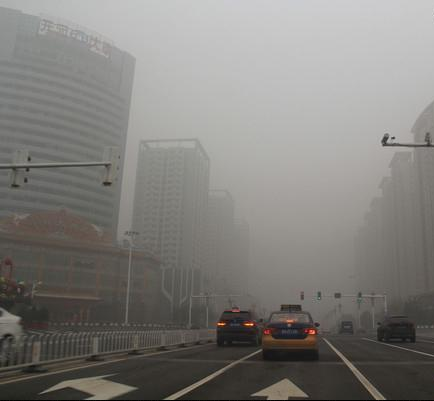car: (260, 310, 320, 362), (216, 309, 263, 347), (377, 315, 415, 345), (1, 307, 24, 353), (338, 320, 354, 336), (321, 328, 331, 335)
